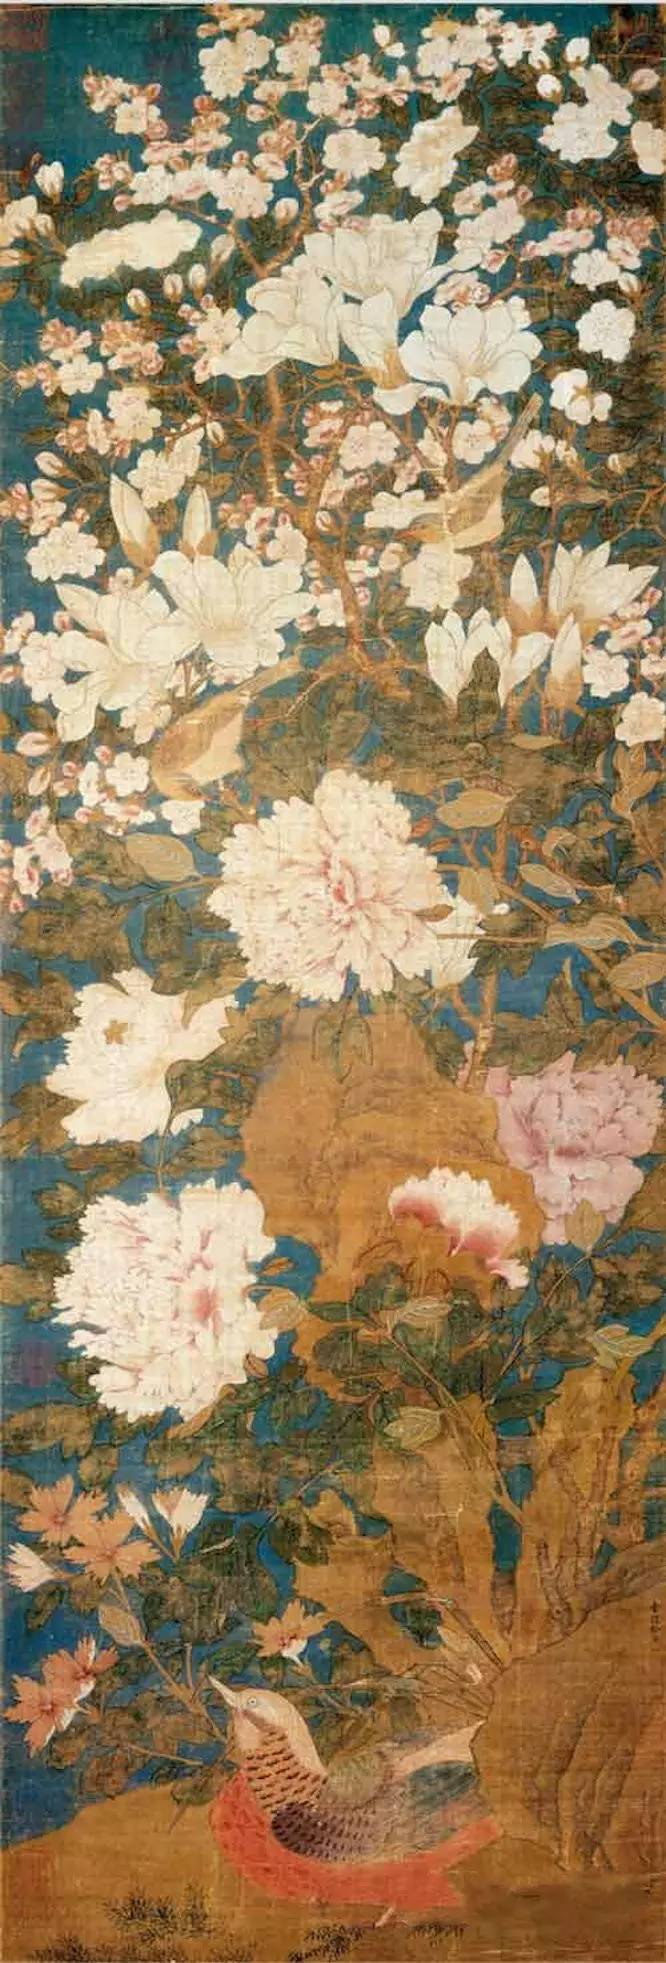bird: (166, 1663, 469, 1925)
peony: (11, 172, 666, 756), (203, 775, 510, 1012), (64, 1191, 287, 1422), (444, 1048, 656, 1267)
